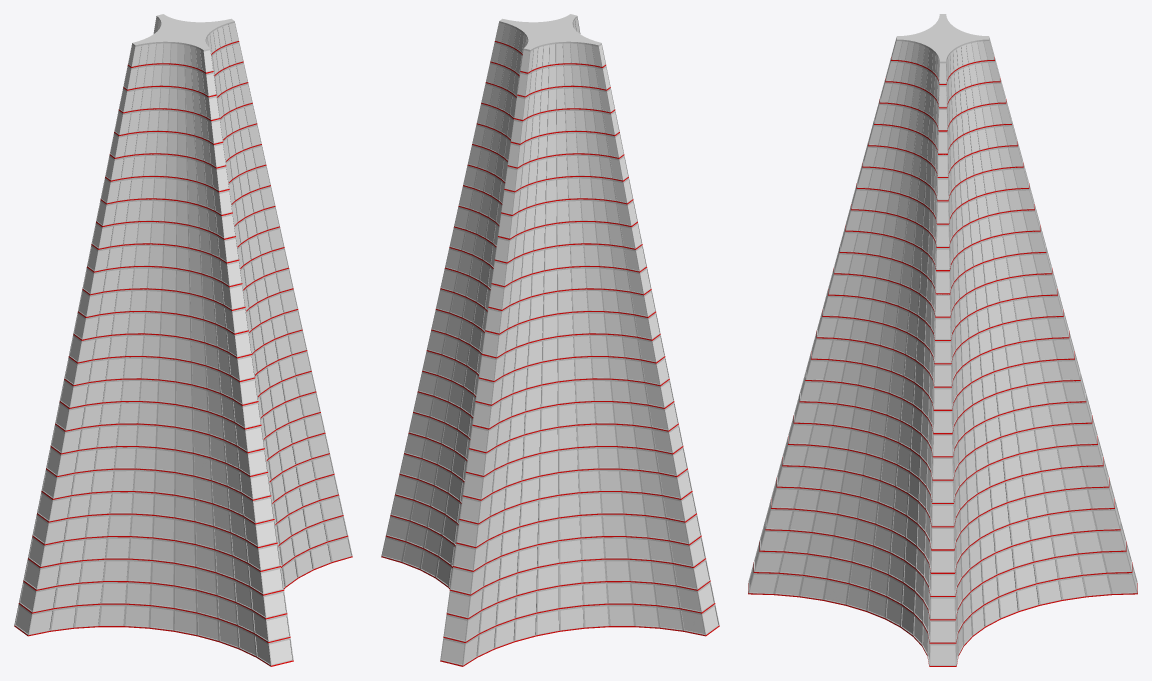
File: updatedHotel.fbx
3 renders of one model, left to right at view 1: azimuth 30°, elevation 25°; view 2: azimuth 150°, elevation 25°; view 3: azimuth 270°, elevation 25°, orthographic.
Visible parts, largest first — view 1: pCube33, pCube41, pCube54, pCube30, pCube49, pCube50, pCube40, pCube52, pCube47, pCube39, pCube29, pCube42 (+14 smaller); view 2: pCube33, pCube41, pCube54, pCube30, pCube49, pCube50, pCube40, pCube52, pCube47, pCube39, pCube29, pCube42 (+14 smaller); view 3: pCube33, pCube41, pCube54, pCube30, pCube49, pCube50, pCube40, pCube52, pCube47, pCube39, pCube29, pCube42 (+14 smaller).
Part boxes in pixels (bbox=[...]): pCube33: bbox=[14, 536, 352, 666]; pCube41: bbox=[18, 516, 348, 642]; pCube54: bbox=[23, 495, 343, 619]; pCube30: bbox=[28, 474, 338, 595]; pCube49: bbox=[32, 454, 334, 571]; pCube50: bbox=[37, 433, 329, 548]; pCube40: bbox=[41, 413, 325, 524]; pCube52: bbox=[46, 392, 320, 500]; pCube47: bbox=[50, 371, 316, 476]; pCube39: bbox=[55, 351, 311, 453]; pCube29: bbox=[59, 330, 307, 429]; pCube42: bbox=[64, 310, 302, 405]; pCube33: bbox=[381, 536, 719, 666]; pCube41: bbox=[385, 516, 715, 642]; pCube54: bbox=[390, 495, 710, 619]; pCube30: bbox=[395, 474, 705, 595]; pCube49: bbox=[399, 454, 701, 571]; pCube50: bbox=[404, 433, 696, 548]; pCube40: bbox=[408, 413, 692, 524]; pCube52: bbox=[413, 392, 687, 500]; pCube47: bbox=[417, 371, 683, 476]; pCube39: bbox=[422, 351, 678, 453]; pCube29: bbox=[426, 330, 674, 429]; pCube42: bbox=[431, 310, 669, 405]; pCube33: bbox=[748, 563, 1137, 666]; pCube41: bbox=[753, 542, 1132, 643]; pCube54: bbox=[759, 520, 1126, 620]; pCube30: bbox=[765, 499, 1120, 596]; pCube49: bbox=[771, 479, 1114, 573]; pCube50: bbox=[776, 458, 1109, 550]; pCube40: bbox=[782, 437, 1103, 527]; pCube52: bbox=[788, 416, 1097, 503]; pCube47: bbox=[793, 394, 1092, 480]; pCube39: bbox=[799, 373, 1086, 457]; pCube29: bbox=[805, 352, 1080, 434]; pCube42: bbox=[811, 331, 1074, 410].
Size of the model in its own units: 40.28 by 66.31 by 42.53.
